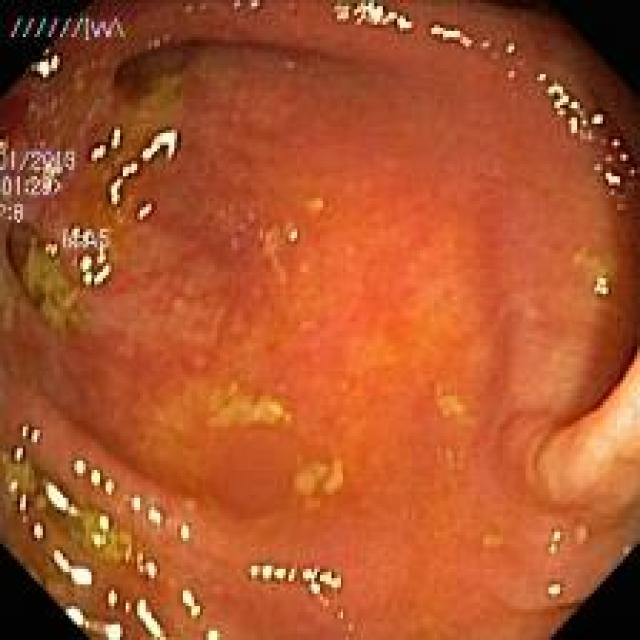ulcerative-colitis-grade-1: (6, 42, 560, 638)
